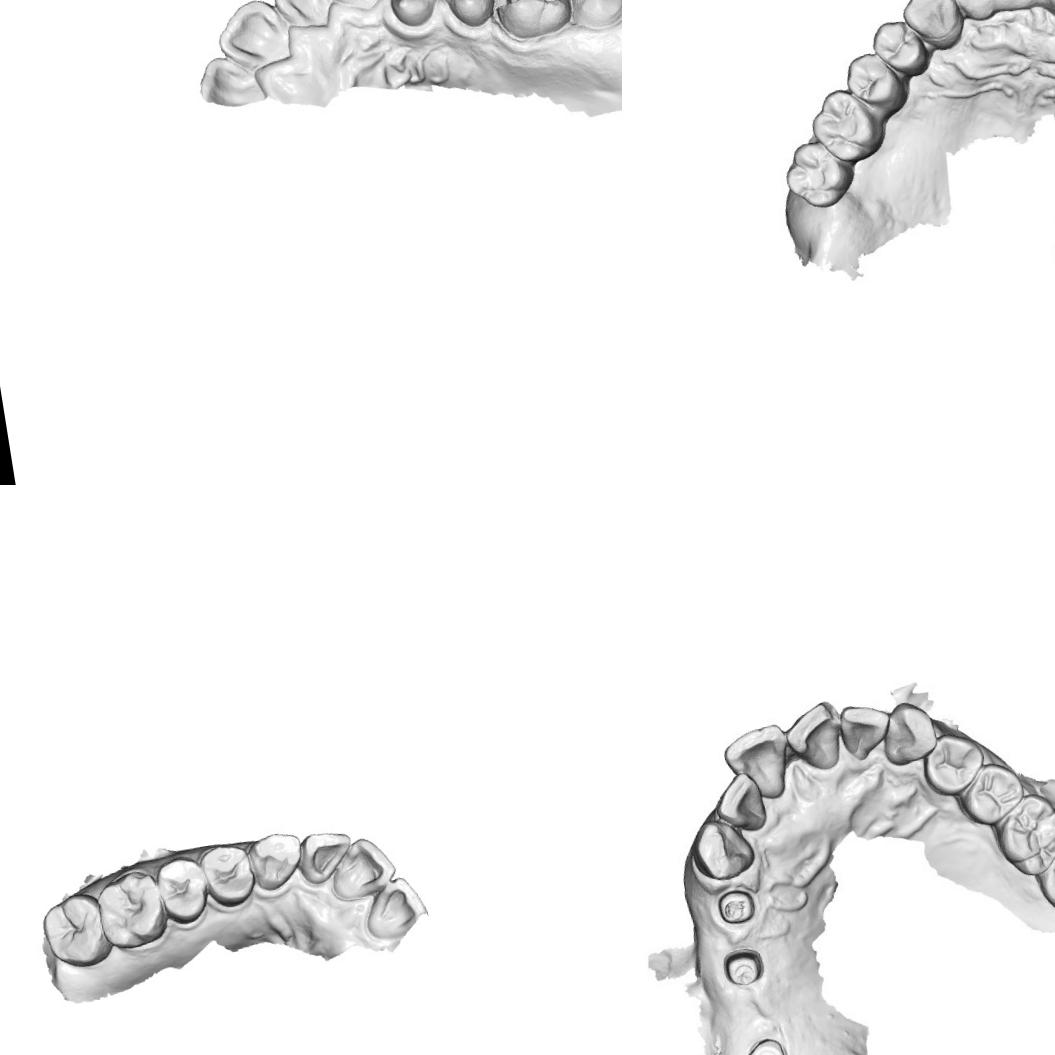canine: (686, 812, 757, 886), (876, 695, 946, 770), (244, 826, 309, 894), (896, 0, 968, 57), (321, 0, 391, 18)
implant: (716, 941, 774, 997), (712, 887, 762, 927), (741, 1033, 789, 1055)
incisor: (719, 720, 797, 807), (210, 0, 294, 76), (778, 695, 847, 776), (324, 831, 400, 904), (358, 872, 432, 943), (192, 48, 268, 113), (294, 825, 360, 889), (836, 698, 897, 764), (713, 770, 772, 838), (269, 0, 338, 34), (942, 0, 1006, 27)
inlay: (488, 0, 565, 14)
molar: (803, 81, 888, 170), (92, 866, 171, 953), (987, 784, 1055, 883), (36, 888, 115, 973), (778, 134, 856, 216), (1032, 829, 1055, 919), (561, 0, 622, 33)
premolar: (954, 756, 1030, 832), (914, 726, 991, 800), (840, 47, 907, 120), (868, 14, 935, 84), (152, 854, 213, 930), (198, 839, 258, 912), (378, 0, 448, 32), (435, 0, 502, 33)
